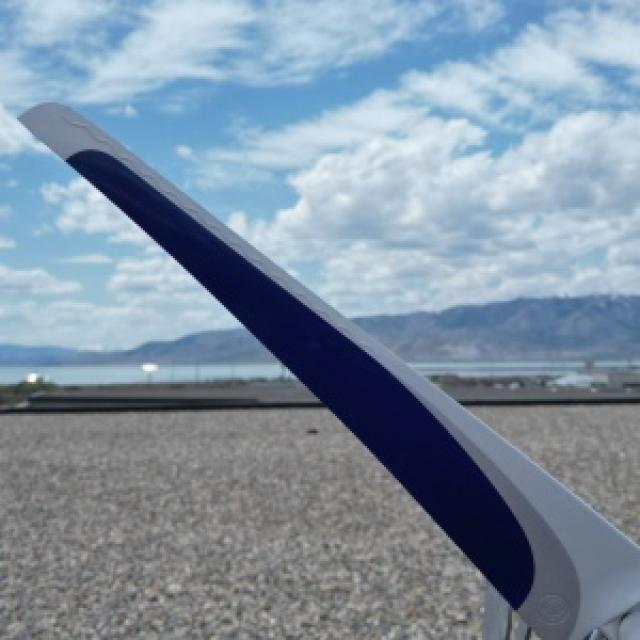healthy: (17, 100, 638, 638)
